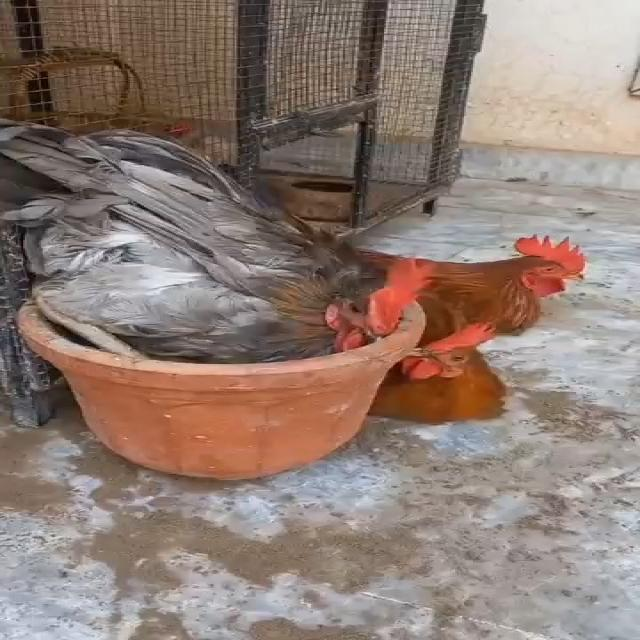stand bath: (0, 138, 420, 406)
